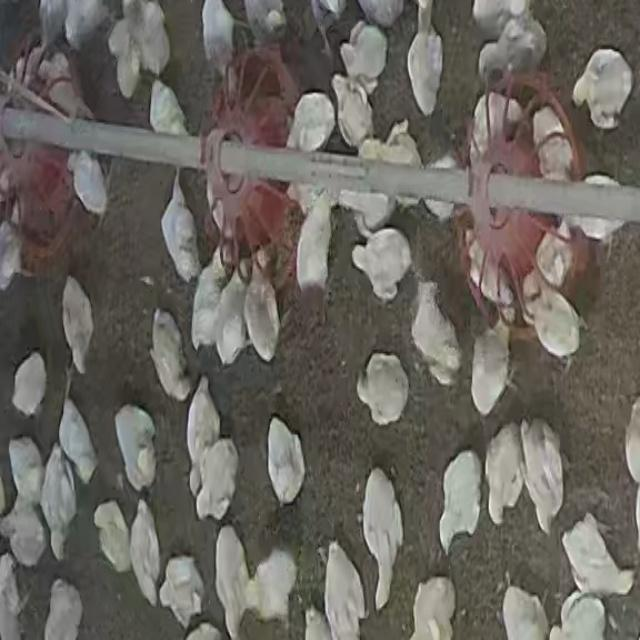chicken: (558, 514, 632, 596), (360, 467, 402, 608), (518, 420, 564, 536), (474, 10, 546, 84), (571, 47, 633, 130), (294, 190, 334, 308), (355, 347, 415, 425), (159, 174, 201, 284), (483, 425, 525, 529), (439, 452, 481, 556), (524, 282, 580, 360), (406, 2, 443, 119), (413, 278, 459, 372), (113, 403, 158, 498), (214, 524, 252, 636), (562, 178, 624, 245), (148, 310, 192, 404), (322, 542, 366, 636), (265, 418, 311, 506), (40, 446, 76, 558), (158, 551, 208, 629), (469, 92, 523, 164), (469, 324, 511, 414), (194, 438, 239, 522), (127, 499, 163, 604), (354, 228, 413, 292), (243, 260, 279, 362), (253, 544, 297, 624), (58, 398, 97, 488), (215, 265, 250, 363), (187, 380, 220, 483), (61, 278, 95, 377), (336, 20, 387, 86), (529, 105, 572, 181), (197, 0, 240, 74), (0, 502, 48, 568), (285, 92, 336, 154), (93, 500, 133, 577), (331, 76, 375, 146), (191, 261, 223, 352), (532, 224, 576, 288), (7, 436, 45, 508), (70, 149, 108, 218), (337, 190, 395, 234), (11, 352, 48, 418), (149, 80, 191, 138)
